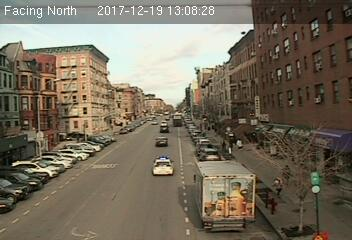car: (199, 148, 221, 160), (154, 136, 170, 147)
police: (150, 155, 176, 178)
truck: (195, 161, 256, 231)
